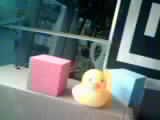duck: (65, 66, 116, 110)
